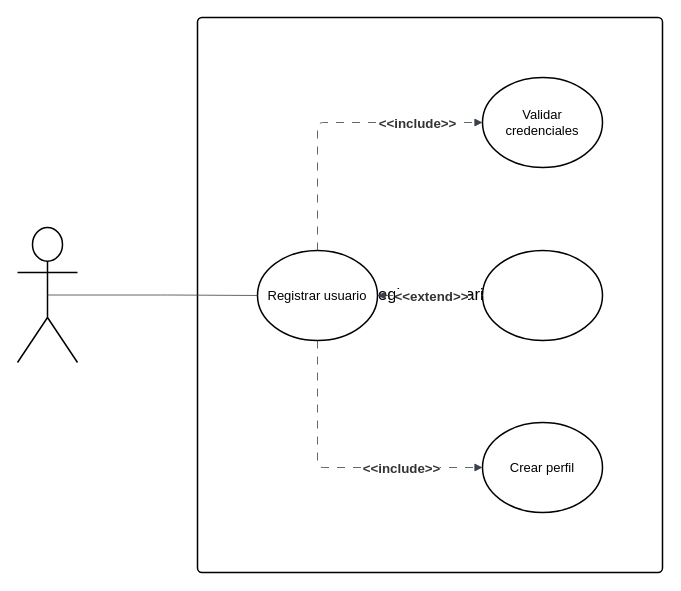
The diagram is 681 pixels wide and 591 high, and some of its shapes have lost their labels. Each missing label, with the centre of its shape:
"Envíar confirmación" goes at [542,295].
"Viajero" goes at [47,294].
